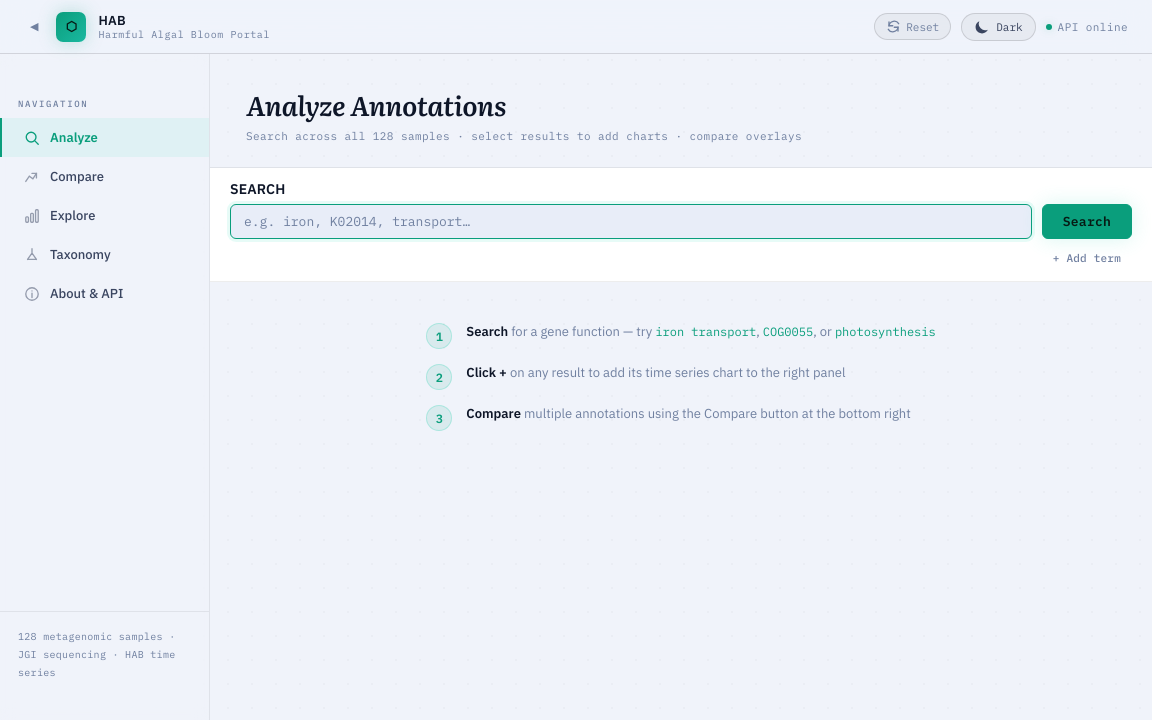
Test case: App shell › navigates to About page
The image size is (1152, 720).
Click the text "About & API": (87, 294) top-left (50, 285), bottom-right (123, 302)
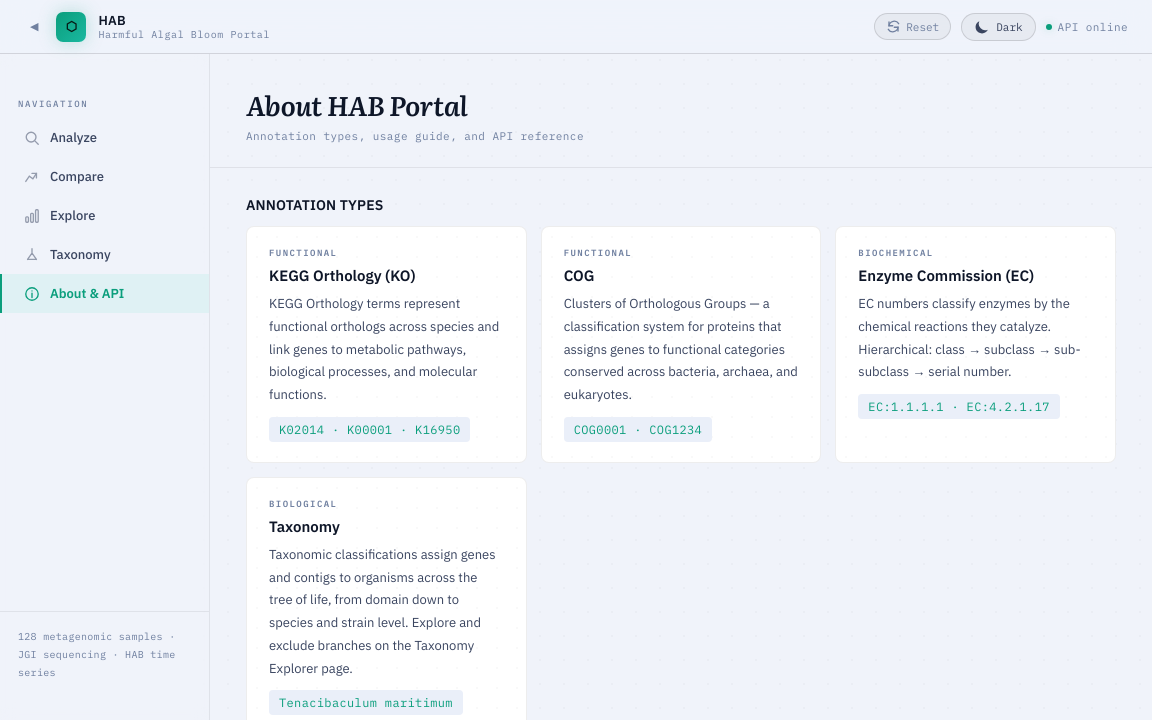
expect the heading "About HAB Portal" is shown: met, box top-left (246, 84), bottom-right (468, 124)
